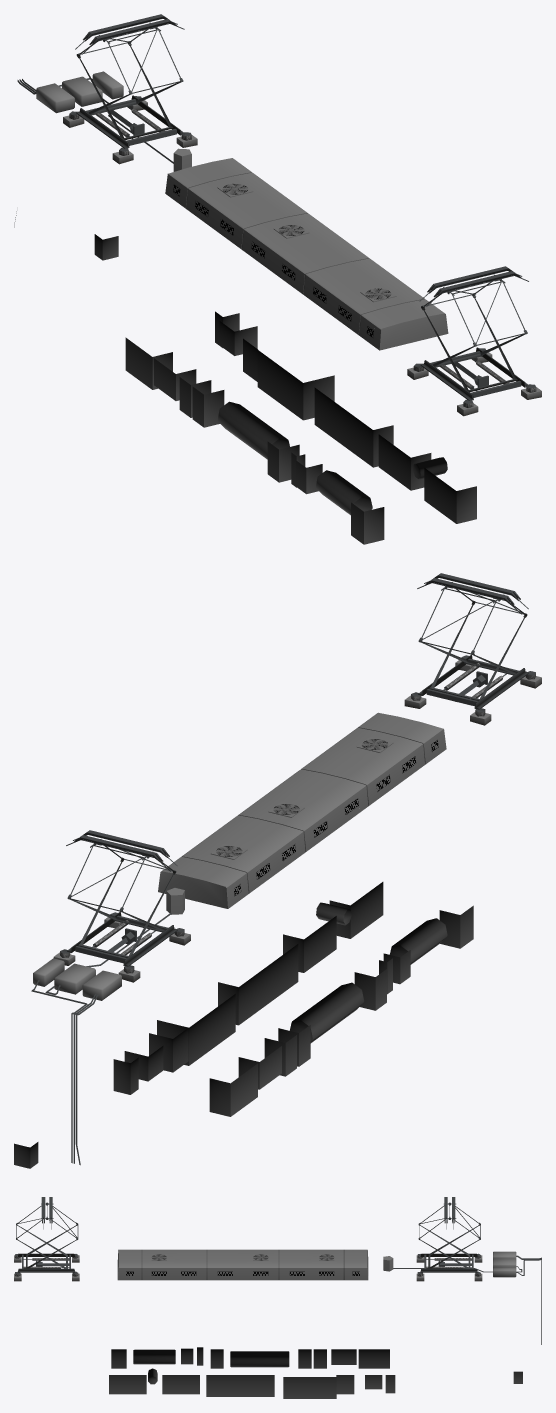
Rendered from K8000_PANTA00.glb.
3 renders of one model, top to bottom at view 1: azimuth 30°, elevation 25°; view 2: azimuth 150°, elevation 25°; view 3: azimuth 270°, elevation 25°, orthographic. The views are drawn at different scales.
Parts seen in each view (by area): view 1: obj5; view 2: obj5; view 3: obj5.
Boxes of the visible parts, left/top/right/bottom form: obj5: left=14, top=14, right=541, bottom=544; obj5: left=14, top=573, right=541, bottom=1168; obj5: left=14, top=1197, right=541, bottom=1398.
Size of the model in its own units: 5.13 by 12.38 by 34.08.
Materials: 5 (5 with a texture image).
